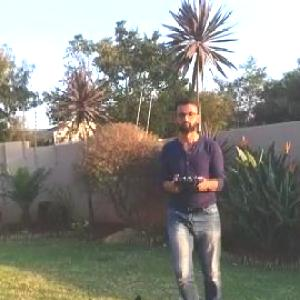follow: (155, 99, 231, 299)
